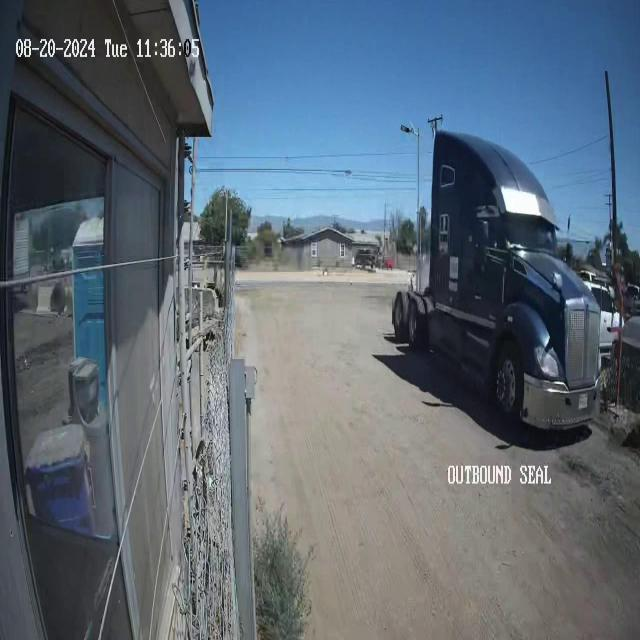TRUCK_IN: (392, 127, 602, 433)
